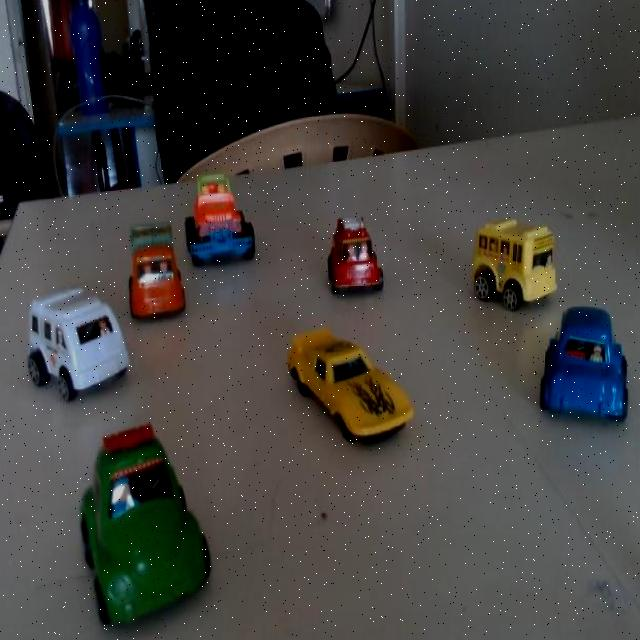car: (61, 432, 203, 601), (15, 269, 136, 418), (276, 321, 416, 448), (539, 305, 631, 425), (462, 217, 552, 319), (187, 163, 265, 264), (313, 206, 385, 309), (120, 210, 185, 324)
